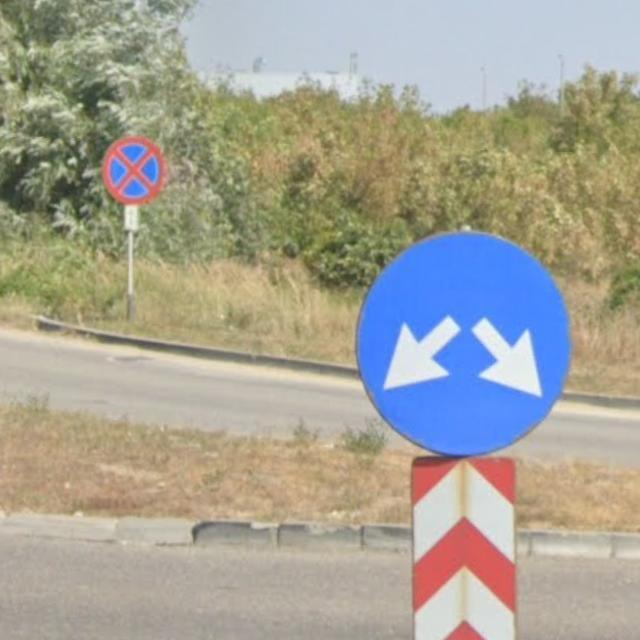forb_waiting: (101, 134, 164, 205)
